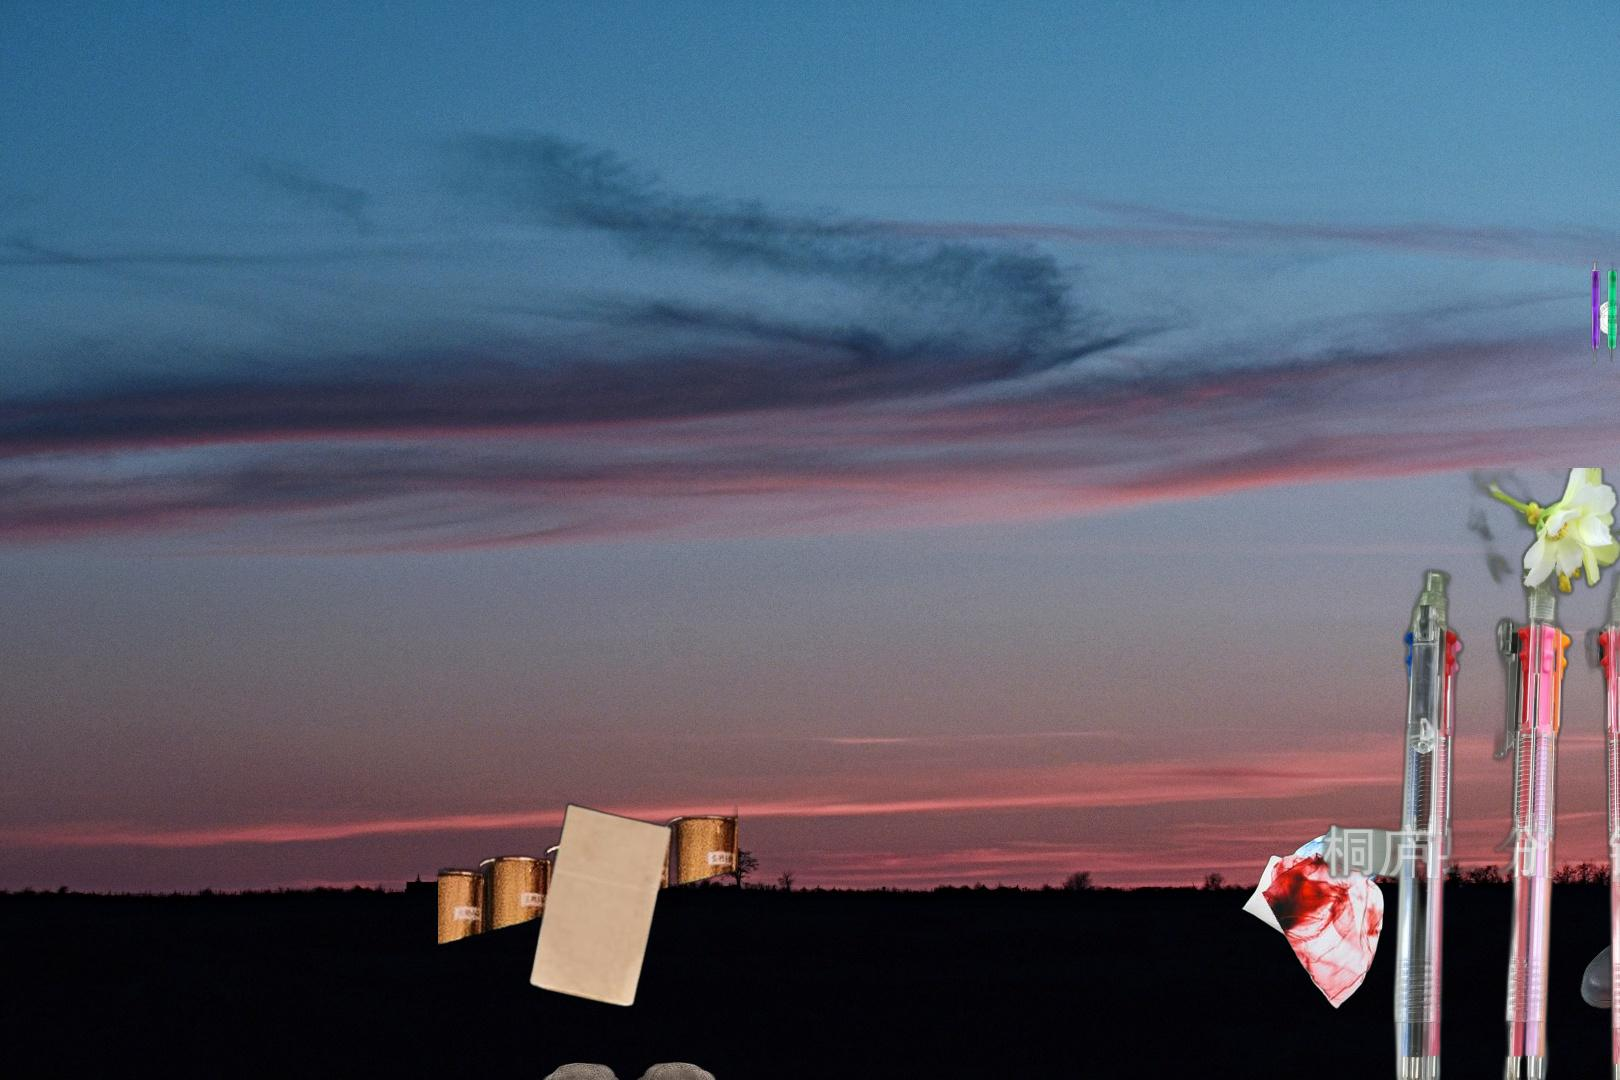paper-bag: (438, 800, 738, 1010)
penholder: (1316, 468, 1620, 1080), (1587, 259, 1620, 366)
plastic-bag: (1239, 823, 1385, 1010)
shoes: (1577, 856, 1620, 1016), (527, 1060, 730, 1080)
